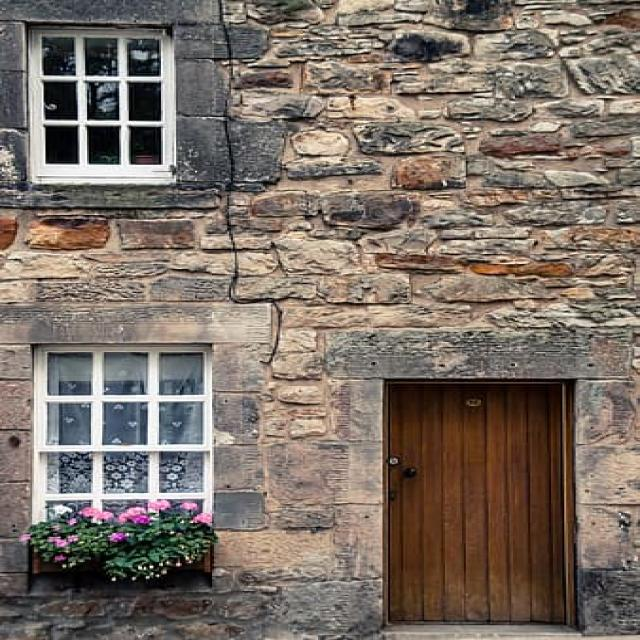door: (379, 376, 584, 638)
window: (14, 347, 211, 571), (30, 27, 195, 203)
